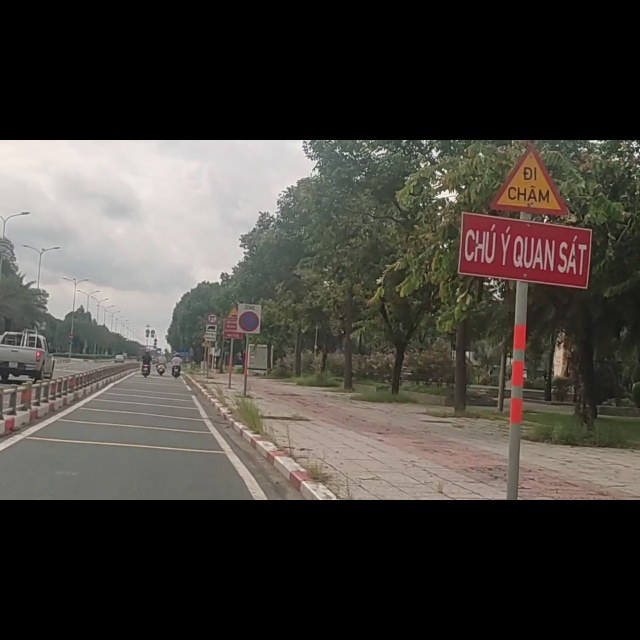bien_cam: (488, 11, 573, 141), (236, 290, 262, 345), (205, 327, 217, 359), (206, 308, 219, 327)
